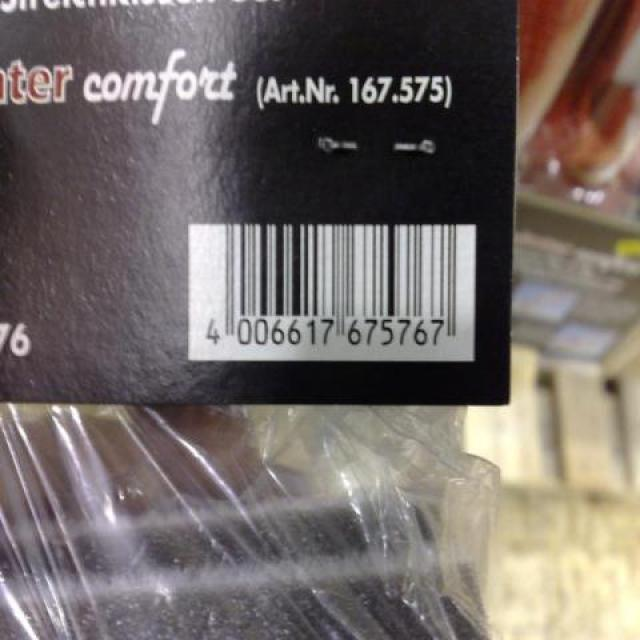Barcode: (188, 224, 475, 360)
